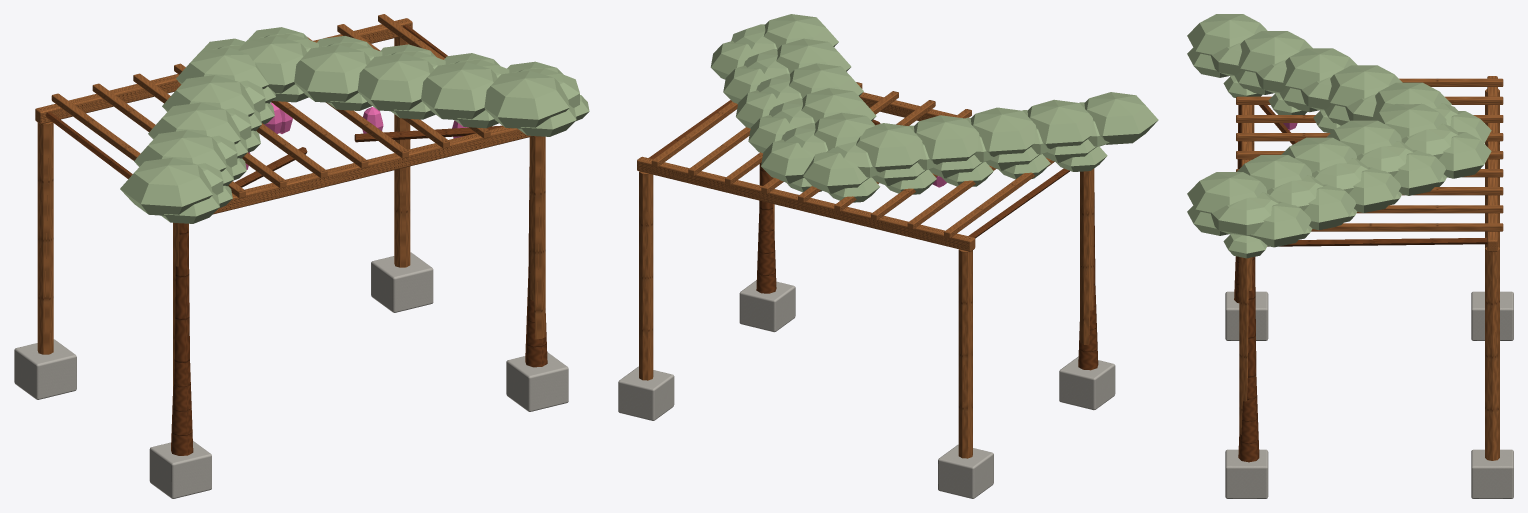
The model's file is greek-island-village-and-harbour-grape-pergola-with-vi-5a3fe0db.glb.
The picture shows the model from 3 angles, left to right: view 1: azimuth 30°, elevation 25°; view 2: azimuth 150°, elevation 25°; view 3: azimuth 270°, elevation 25°; orthographic projection. The views are drawn at different scales.
Visible parts, largest first — view 1: grape-pergola-with-vine; view 2: grape-pergola-with-vine; view 3: grape-pergola-with-vine.
Boxes of the visible parts, <box> form: grape-pergola-with-vine: <box>14,14,589,498</box>; grape-pergola-with-vine: <box>618,14,1158,498</box>; grape-pergola-with-vine: <box>1187,14,1513,498</box>.
Bounding box in the file's own units: 4.58 × 3.13 × 3.06.
Materials: 5 (3 with a texture image).
